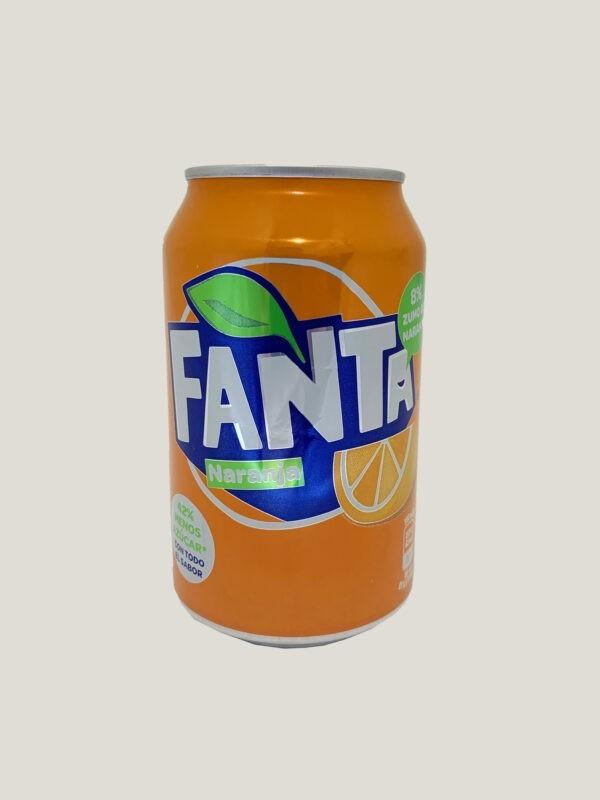metal: (164, 165, 425, 646)
